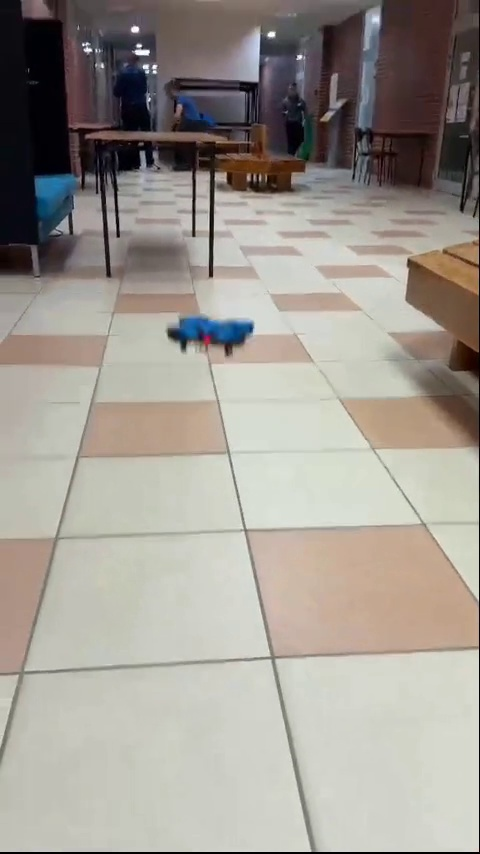drone: (168, 313, 252, 360)
no vest: (114, 46, 167, 174), (161, 84, 218, 165), (276, 78, 313, 165)
